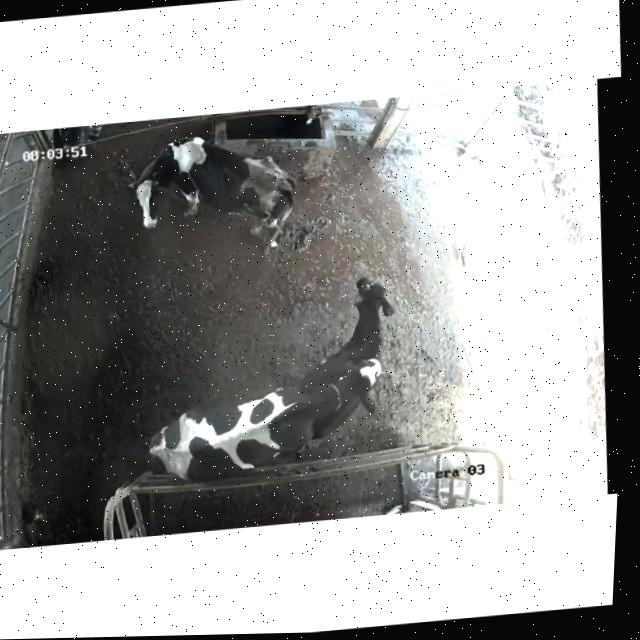ride: (114, 334, 422, 484)
